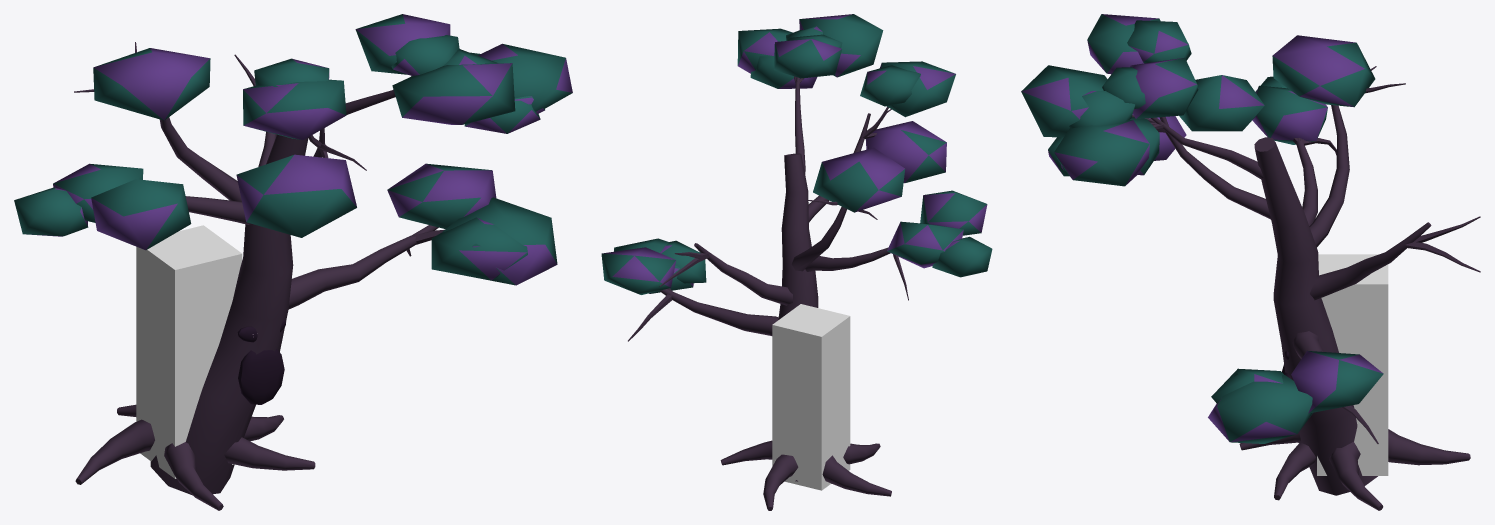
Rendered from Twisted_Tree_C.fbx.
3 renders of one model, left to right at view 1: azimuth 30°, elevation 25°; view 2: azimuth 150°, elevation 25°; view 3: azimuth 270°, elevation 25°, orthographic. The views are drawn at different scales.
Visible parts, largest first — view 1: Twisted_Tree_C_Leaves, COL_Twisted_Tree_C_0, Twisted_Tree_C_Trunk, Twisted_Tree_C_Branches, Twisted_Tree_C_Roots; view 2: Twisted_Tree_C_Leaves, COL_Twisted_Tree_C_0, Twisted_Tree_C_Branches, Twisted_Tree_C_Trunk, Twisted_Tree_C_Roots; view 3: Twisted_Tree_C_Leaves, Twisted_Tree_C_Trunk, Twisted_Tree_C_Branches, COL_Twisted_Tree_C_0, Twisted_Tree_C_Roots.
Boxes of the visible parts, x1=… form: Twisted_Tree_C_Leaves: x1=14, y1=14, x2=572, y2=285; COL_Twisted_Tree_C_0: x1=136, y1=225, x2=242, y2=478; Twisted_Tree_C_Trunk: x1=150, y1=134, x2=308, y2=495; Twisted_Tree_C_Branches: x1=74, y1=42, x2=444, y2=309; Twisted_Tree_C_Roots: x1=75, y1=404, x2=315, y2=510; Twisted_Tree_C_Leaves: x1=601, y1=14, x2=992, y2=294; COL_Twisted_Tree_C_0: x1=772, y1=304, x2=850, y2=490; Twisted_Tree_C_Branches: x1=628, y1=76, x2=908, y2=341; Twisted_Tree_C_Trunk: x1=778, y1=153, x2=831, y2=483; Twisted_Tree_C_Roots: x1=720, y1=440, x2=891, y2=510; Twisted_Tree_C_Leaves: x1=1021, y1=14, x2=1383, y2=443; Twisted_Tree_C_Trunk: x1=1254, y1=137, x2=1377, y2=495; Twisted_Tree_C_Branches: x1=1132, y1=66, x2=1480, y2=443; COL_Twisted_Tree_C_0: x1=1317, y1=254, x2=1388, y2=475; Twisted_Tree_C_Roots: x1=1239, y1=429, x2=1470, y2=510.
Bounding box in the file's own units: 10.38 × 9.8 × 8.7.
